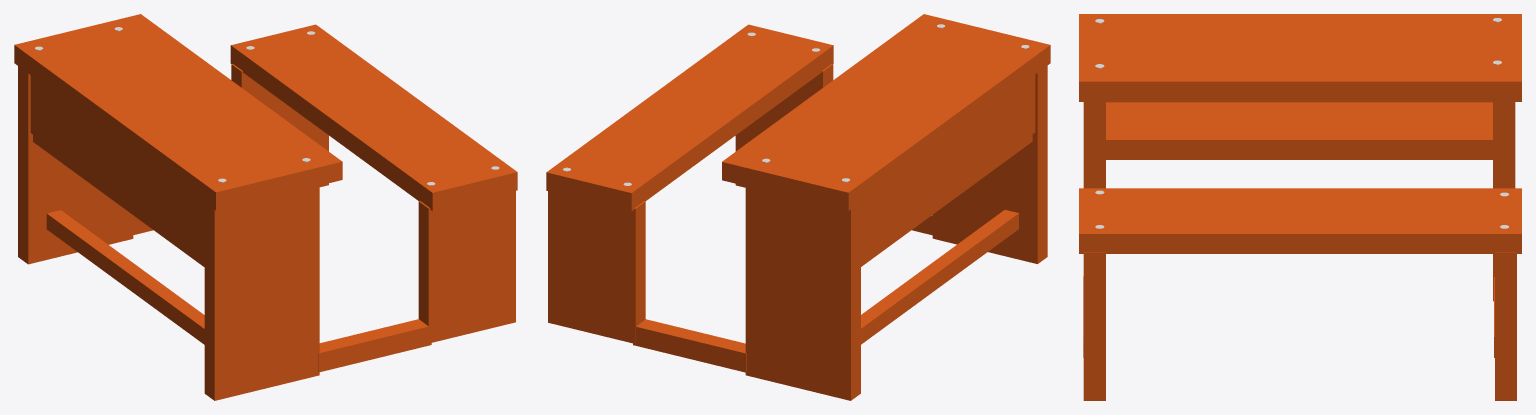
The model's file is bench 2.fbx.
3 renders of one model, left to right at view 1: azimuth 30°, elevation 25°; view 2: azimuth 150°, elevation 25°; view 3: azimuth 270°, elevation 25°, orthographic. The views are drawn at different scales.
Parts seen in each view (by area): view 1: bench; view 2: bench; view 3: bench.
Boxes of the visible parts, <box> form: bench: <box>14,14,517,400</box>; bench: <box>546,14,1050,400</box>; bench: <box>1079,14,1521,400</box>.
Bounding box in the file's own units: 1598 × 1069 × 1847.
